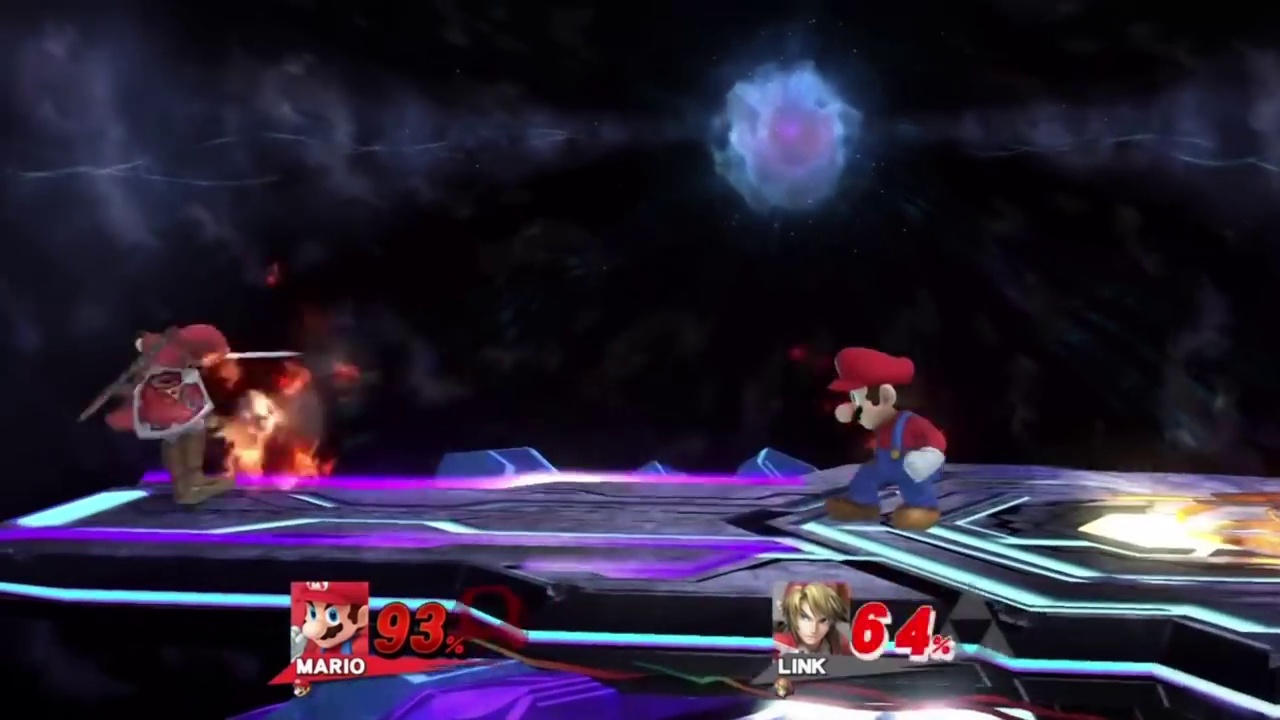Mario: (827, 350, 948, 532)
